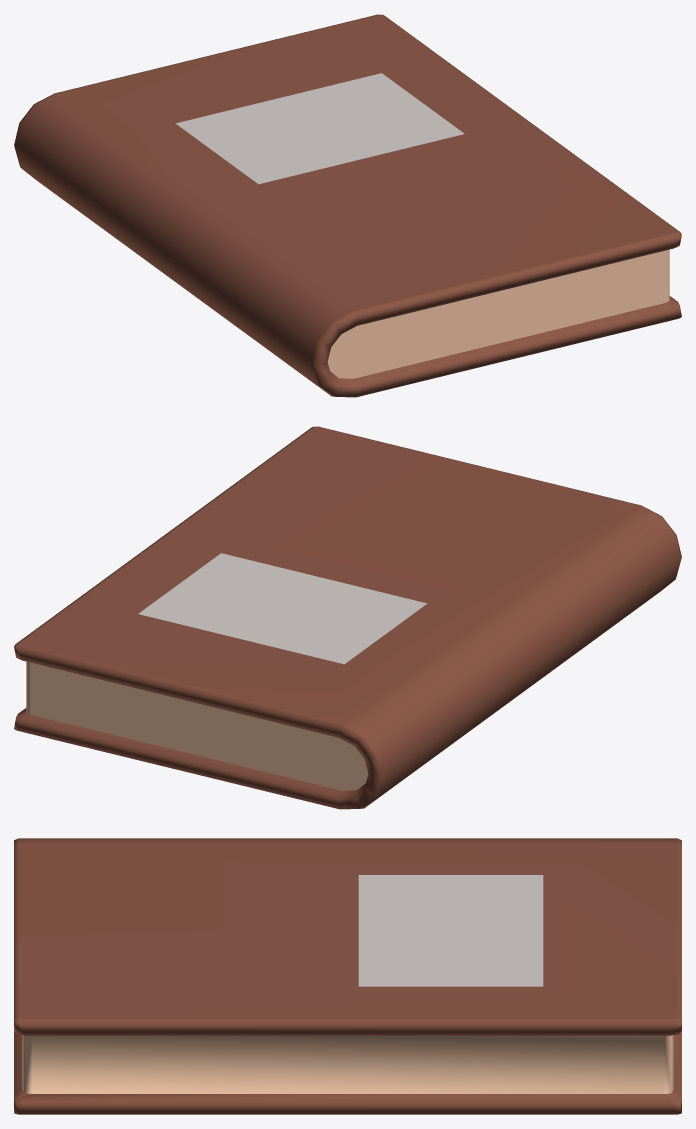
The model's file is Book_07.glb.
The picture shows the model from 3 angles, top to bottom: view 1: azimuth 30°, elevation 25°; view 2: azimuth 150°, elevation 25°; view 3: azimuth 270°, elevation 25°; orthographic projection. The views are drawn at different scales.
Parts seen in each view (by area): view 1: Book_07; view 2: Book_07; view 3: Book_07.
Part boxes in pixels (left/top/right/bottom): Book_07: left=14, top=14, right=681, bottom=397; Book_07: left=14, top=426, right=681, bottom=809; Book_07: left=14, top=838, right=681, bottom=1114.
Size of the model in its own units: 0.2246 by 0.0504 by 0.3173.
1 material, 1 textured.
